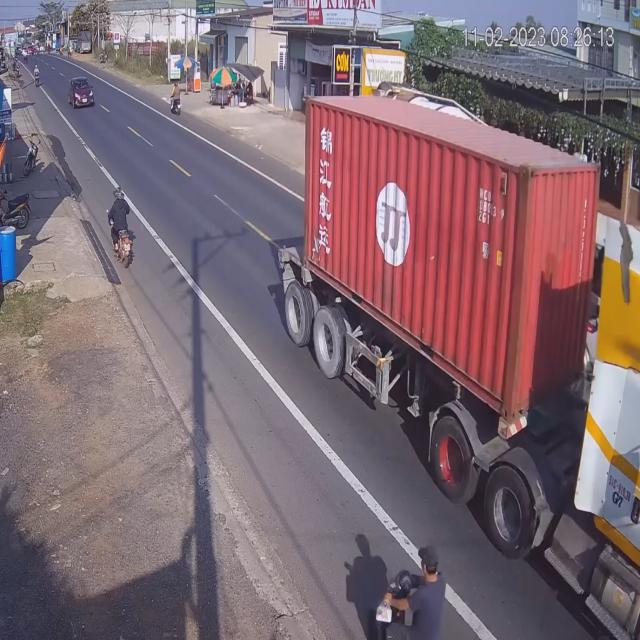car: (68, 76, 94, 111)
motorbike: (346, 545, 448, 640), (111, 188, 138, 271), (170, 84, 181, 117)
truck: (275, 103, 640, 592)
